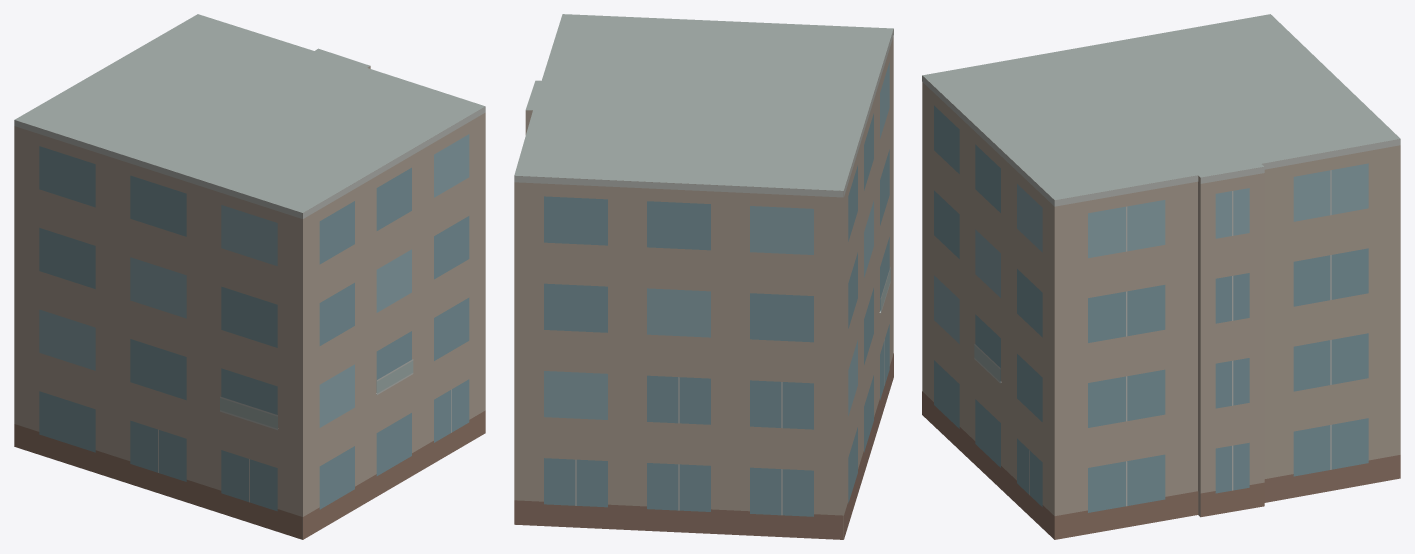
File: survey-upis-32990794.glb
3 views of the same model, side by side, from view 1: azimuth 30°, elevation 25°; view 2: azimuth 150°, elevation 25°; view 3: azimuth 270°, elevation 25° (orthographic). The views are drawn at different scales.
Parts seen in each view (by area): view 1: survey-upis-32990794.tmp; view 2: survey-upis-32990794.tmp; view 3: survey-upis-32990794.tmp.
Part boxes in pixels (left/top/right/bottom): survey-upis-32990794.tmp: left=14, top=14, right=485, bottom=539; survey-upis-32990794.tmp: left=514, top=14, right=893, bottom=539; survey-upis-32990794.tmp: left=922, top=14, right=1400, bottom=539.
Bounding box in the file's own units: 15.3 × 13 × 16.61.
